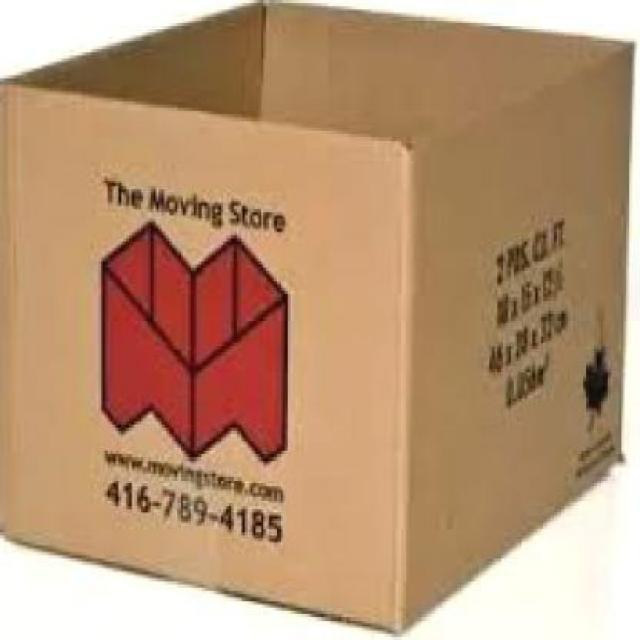box: (0, 0, 638, 638)
